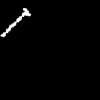half_double_crochet: (1, 8, 30, 36)
